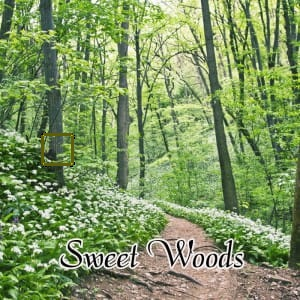square: (39, 131, 77, 168)
